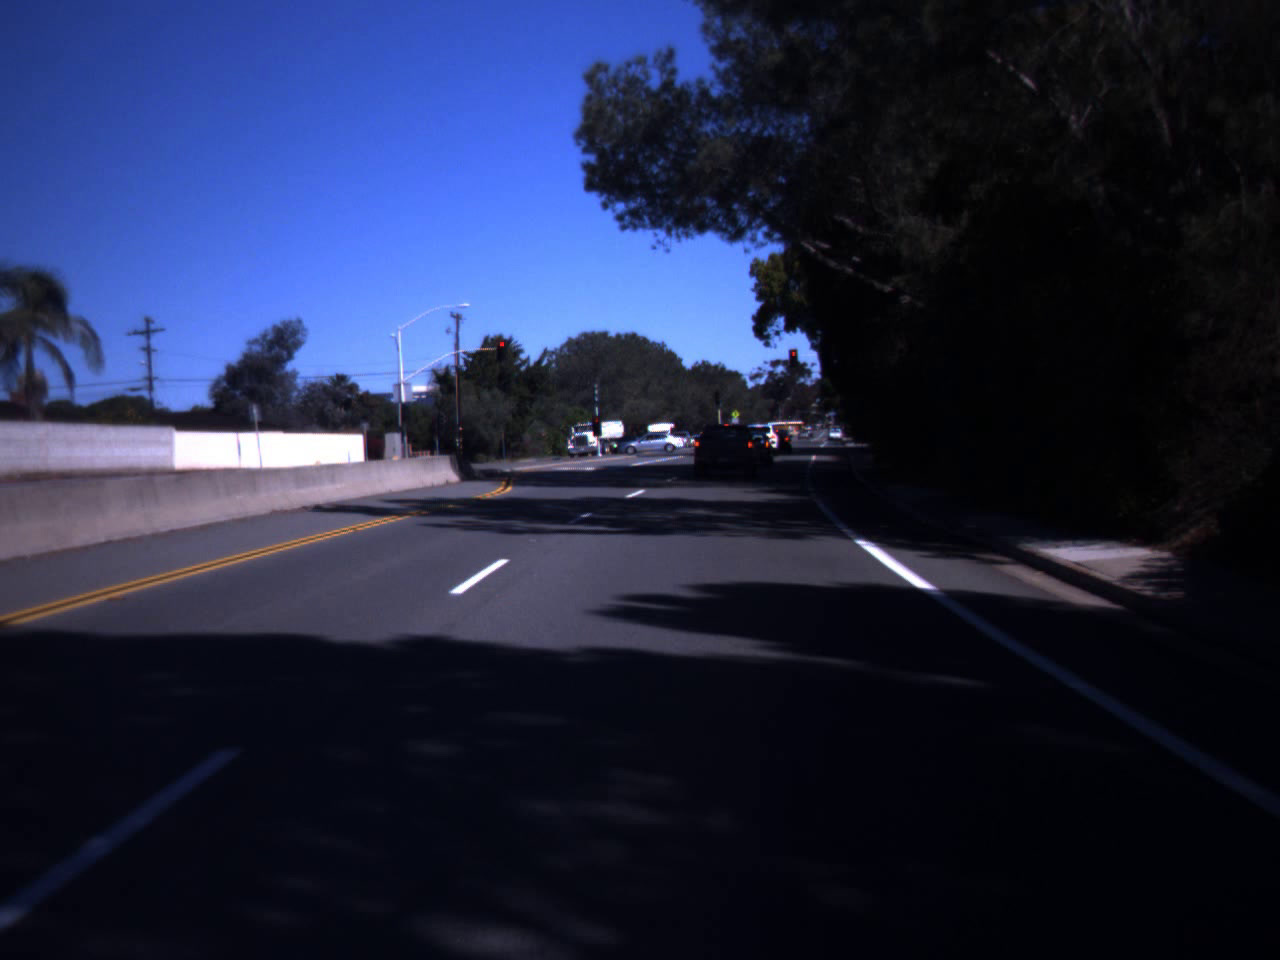stop: (590, 415, 602, 437), (496, 340, 508, 358), (787, 350, 799, 368)
